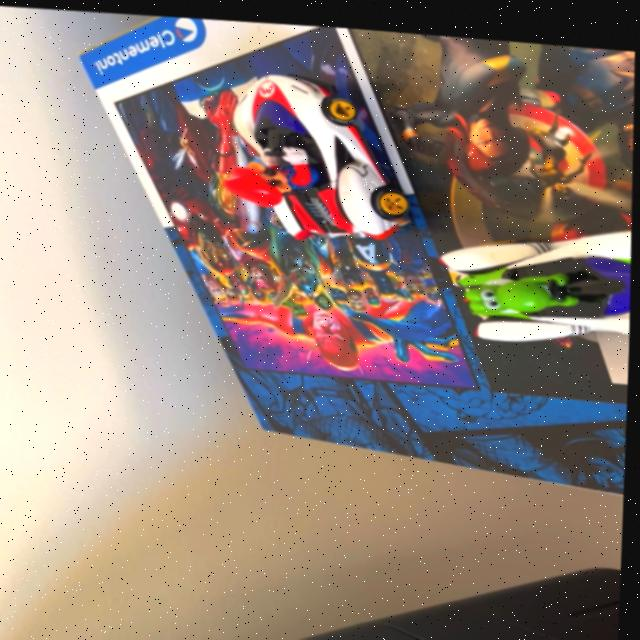mario: (204, 52, 432, 253)
yoshi: (425, 198, 635, 355)
